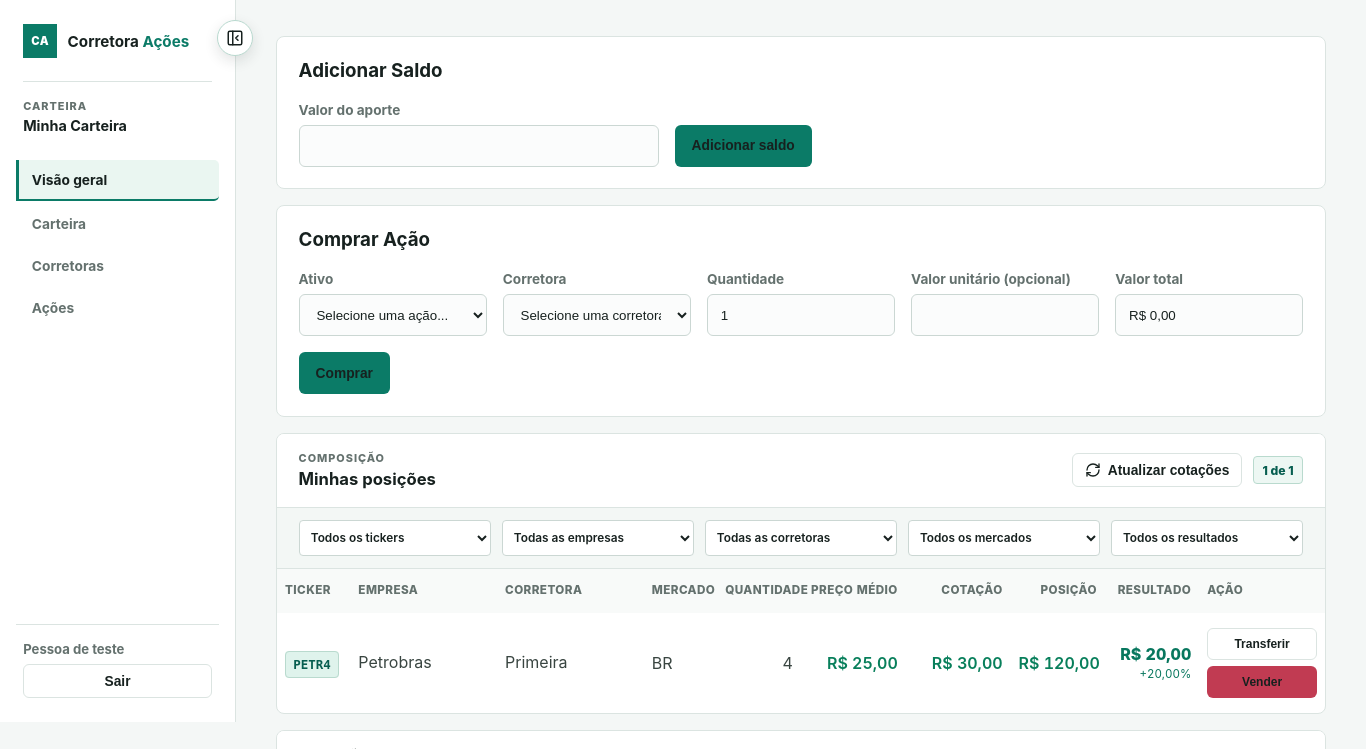
Test: operacoes da carteira › permite cancelar venda e transferencia
Expected: the cell "Petrobras" is shown, [350, 613, 497, 713]
Step 1. Click the button "Vender" → (1262,682), box [1207, 666, 1317, 698]
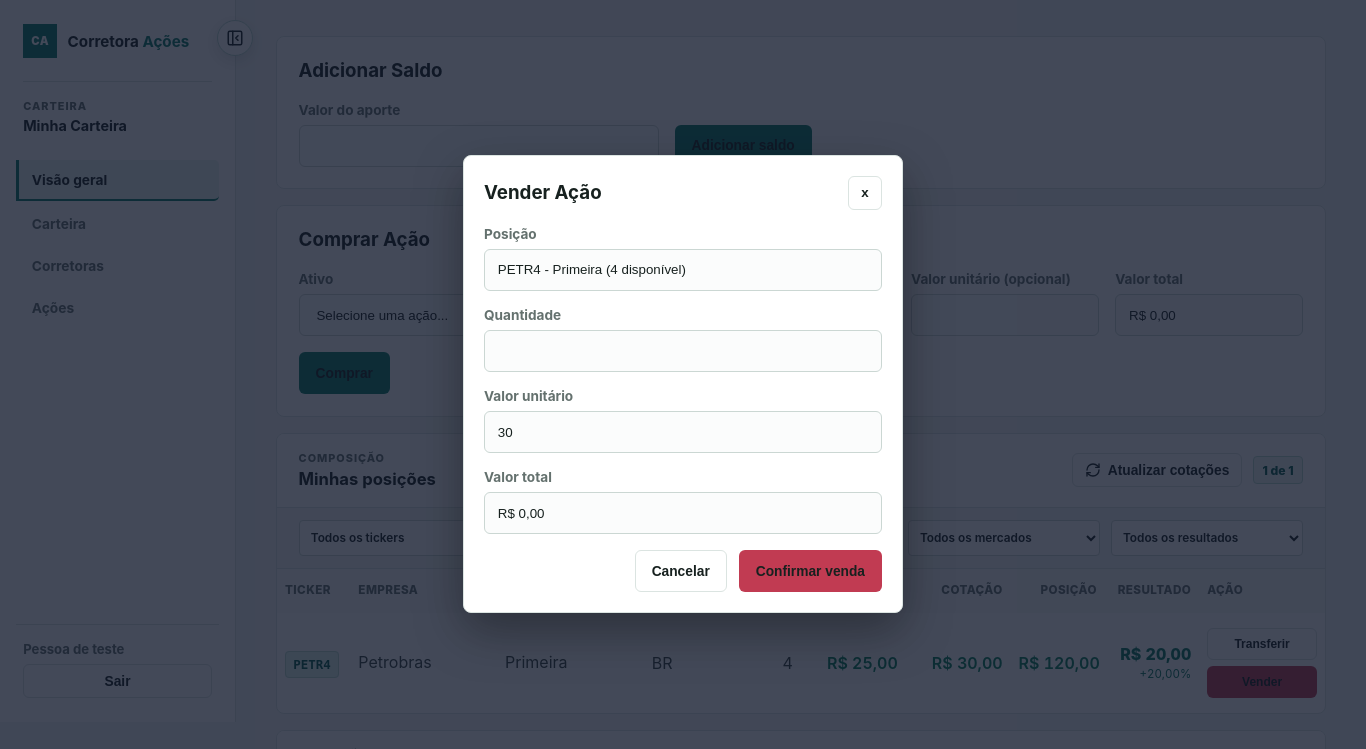
Step 2. Click the button named "Fechar venda" → (865,193), box [848, 176, 882, 210]
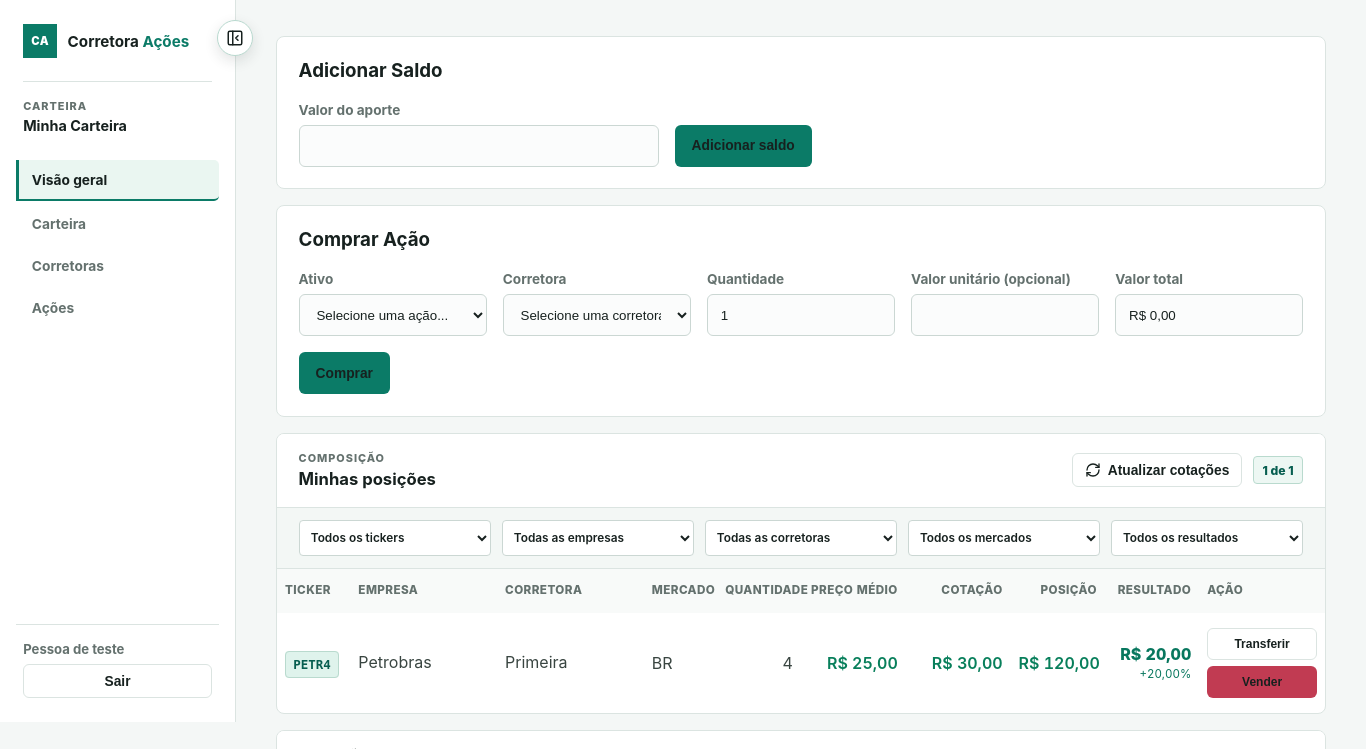
Result: the button "Confirmar venda" is gone
Step 3. Click the button "Transferir" → (1262,644), box [1207, 628, 1317, 660]
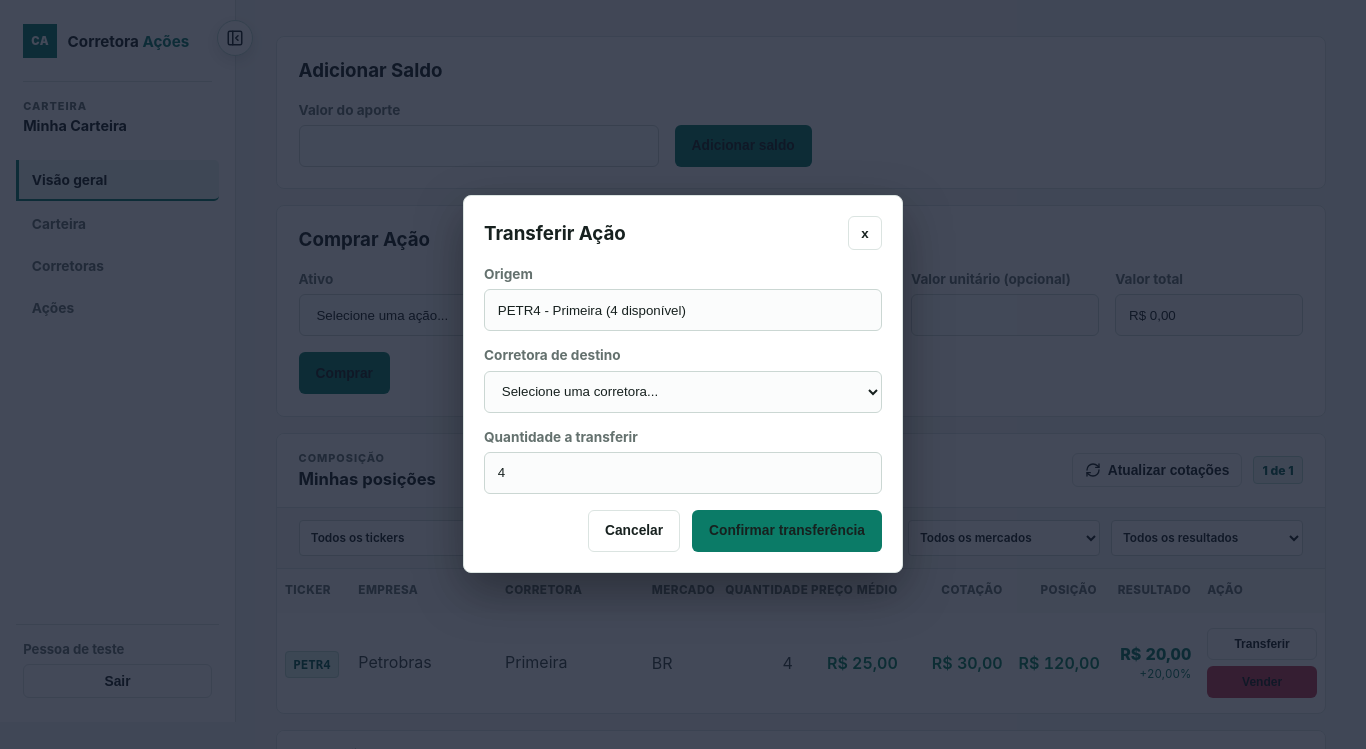
Step 4. Click the button named "Fechar transferência" → (865,233), box [848, 216, 882, 250]
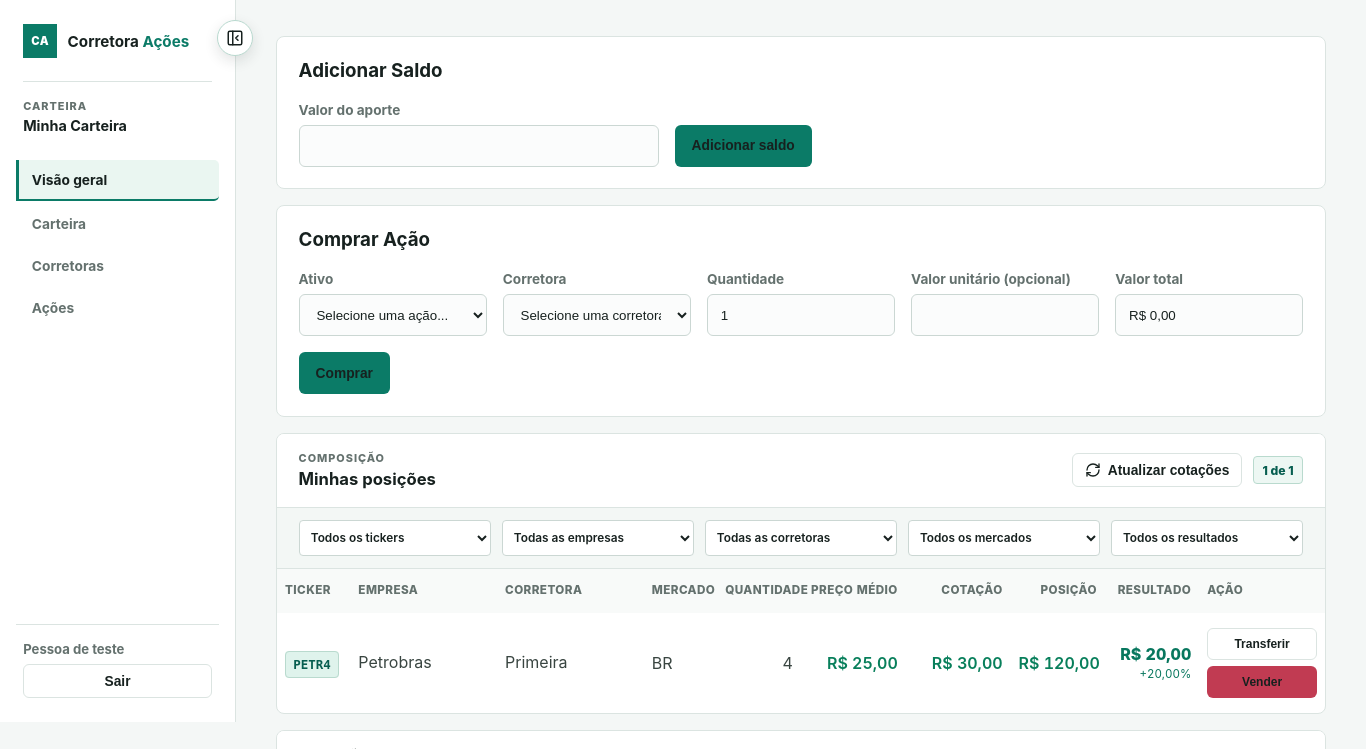
Result: the button "Confirmar transferência" is gone
